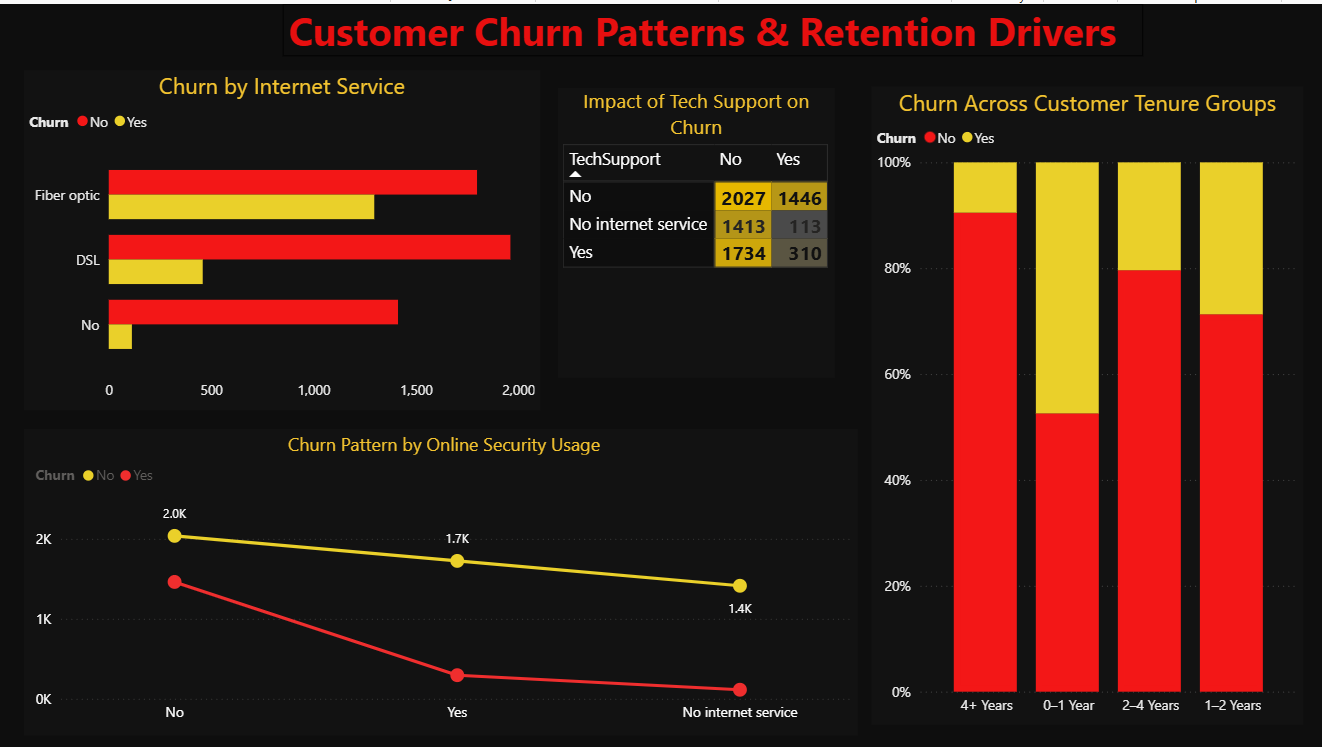

The dashboard page shown, as its layout file describes it:
{"tool":"powerbi","page":{"name":"Page 5","canvas":[1280,720],"ordinal":1},"visuals":[{"type":"lineChart","title":"Churn Pattern by Online Security Usage","fields":{"Category":["customer_churn.OnlineSecurity"],"Y":["CountNonNull(customer_churn.customerID)"],"Series":["customer_churn.Churn"]},"box":[24.5,409.8,804.9,295.7],"z":0},{"type":"clusteredBarChart","title":"Churn by Internet Service","fields":{"Category":["customer_churn.InternetService"],"Y":["CountNonNull(customer_churn.customerID)"],"Series":["customer_churn.Churn"]},"box":[24.5,63.8,498.2,327.6],"z":1000},{"type":"pivotTable","title":"Impact of Tech Support on Churn","fields":{"Rows":["customer_churn.TechSupport"],"Columns":["customer_churn.Churn"],"Values":["CountNonNull(customer_churn.customerID)"]},"box":[539.9,81,267.5,279.8],"z":2000},{"type":"hundredPercentStackedColumnChart","title":"Churn Across Customer Tenure Groups","fields":{"Series":["customer_churn.Churn"],"Category":["customer_churn.Tenure Group"],"Y":["CountNonNull(customer_churn.customerID)"]},"box":[841.7,79.8,417.2,616],"z":3000},{"type":"textbox","title":"Customer Churn Patterns & Retention Drivers","box":[273.9,0,830,50.7],"z":4000}]}

Visuals, with their boxes in screenshot pixels (x1, y1, x2, y2), scaled from the page's 1280x720 canvas onto the 1322x747 screenshot:
"Churn Pattern by Online Security Usage" lineChart: [x1=25, y1=425, x2=857, y2=732]
"Churn by Internet Service" clusteredBarChart: [x1=25, y1=66, x2=540, y2=406]
"Impact of Tech Support on Churn" pivotTable: [x1=558, y1=84, x2=834, y2=374]
"Churn Across Customer Tenure Groups" hundredPercentStackedColumnChart: [x1=869, y1=83, x2=1300, y2=722]
"Customer Churn Patterns & Retention Drivers" textbox: [x1=283, y1=0, x2=1140, y2=53]
